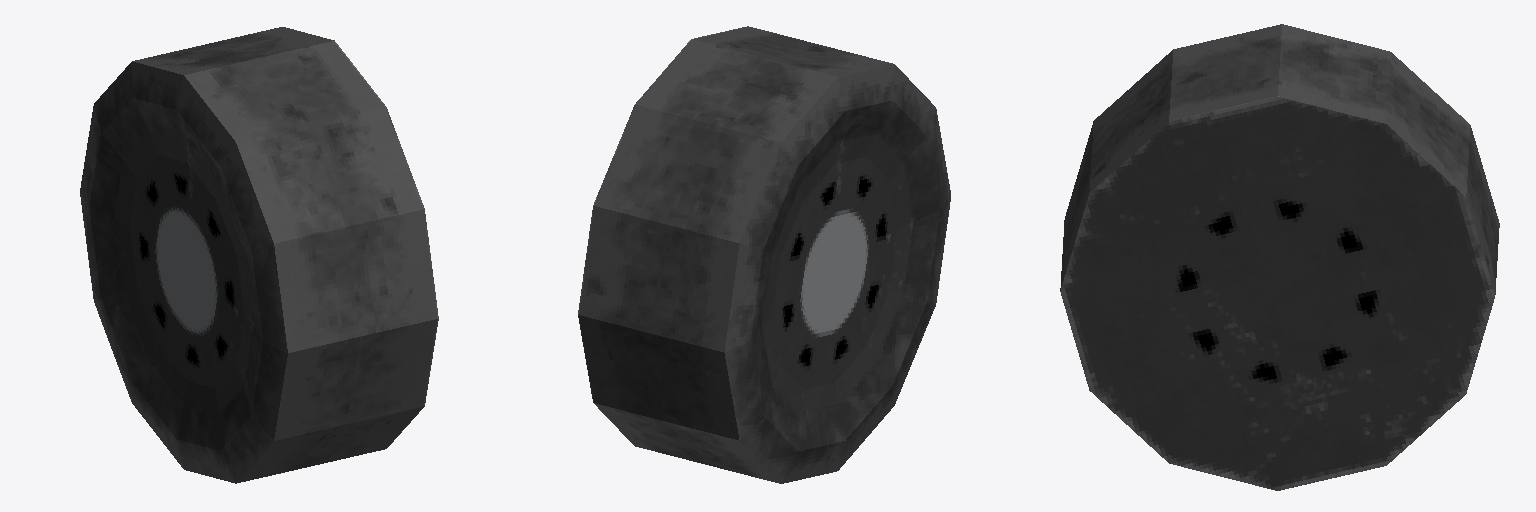
3 renders of one model, left to right at view 1: azimuth 30°, elevation 25°; view 2: azimuth 150°, elevation 25°; view 3: azimuth 270°, elevation 25°, orthographic.
Parts seen in each view (by area): view 1: llanta4; view 2: llanta4; view 3: llanta4.
Boxes of the visible parts, box(x1,y1,x2,y2) form: llanta4: box(80, 27, 438, 483); llanta4: box(578, 26, 950, 483); llanta4: box(1060, 24, 1499, 490).
Size of the model in its own units: 1.84 by 4.22 by 4.26.
1 materials, 1 textured.